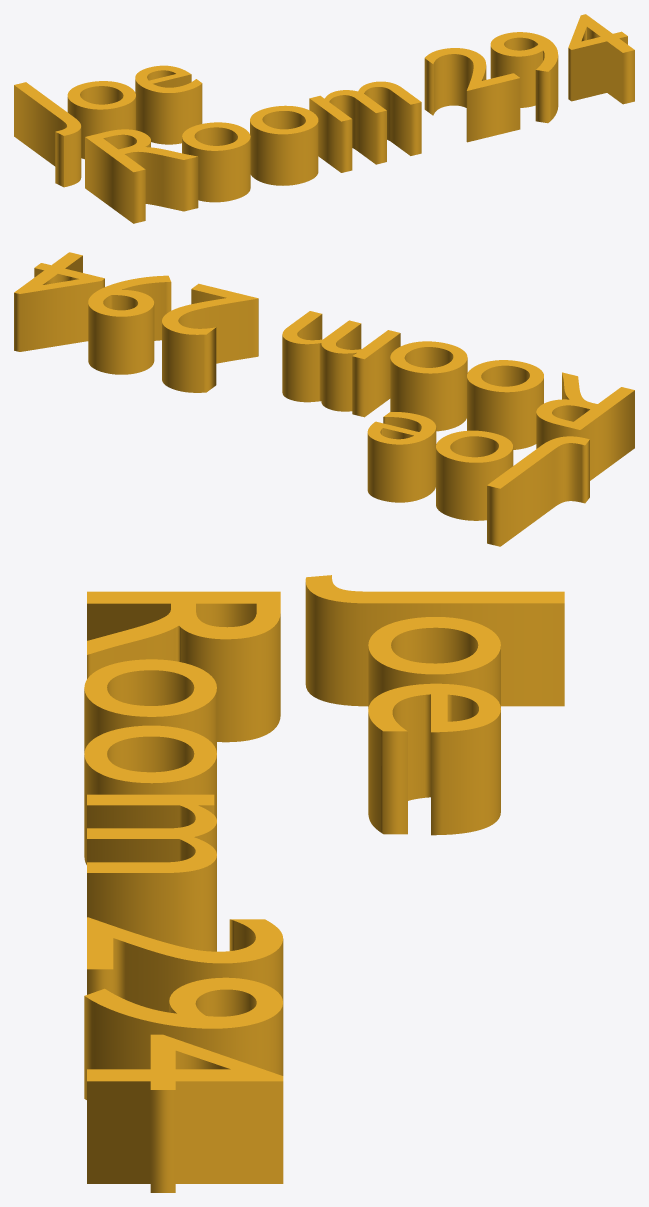
File: joe-294.gltf
3 views of the same model, one above another, from view 1: azimuth 30°, elevation 25°; view 2: azimuth 150°, elevation 25°; view 3: azimuth 270°, elevation 25° (orthographic). The views are drawn at different scales.
Visible parts, largest first — view 1: Text; view 2: Text; view 3: Text.
Boxes of the visible parts, x1,y1,x2,y2 form: Text: (14, 14, 634, 223); Text: (14, 252, 634, 546); Text: (84, 575, 564, 1192).
Size of the model in its own units: 4.29 by 0.4 by 1.69.
